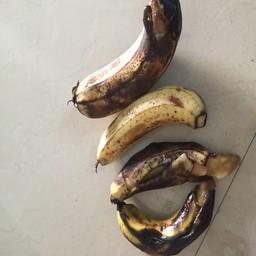Bad_banana: (61, 0, 180, 116), (107, 183, 231, 256), (106, 144, 237, 198)
